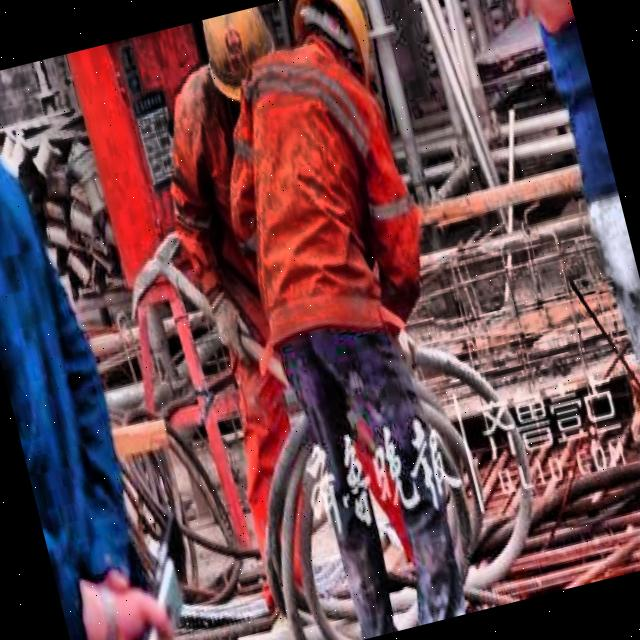helmet: (280, 0, 385, 95), (201, 8, 273, 98)
